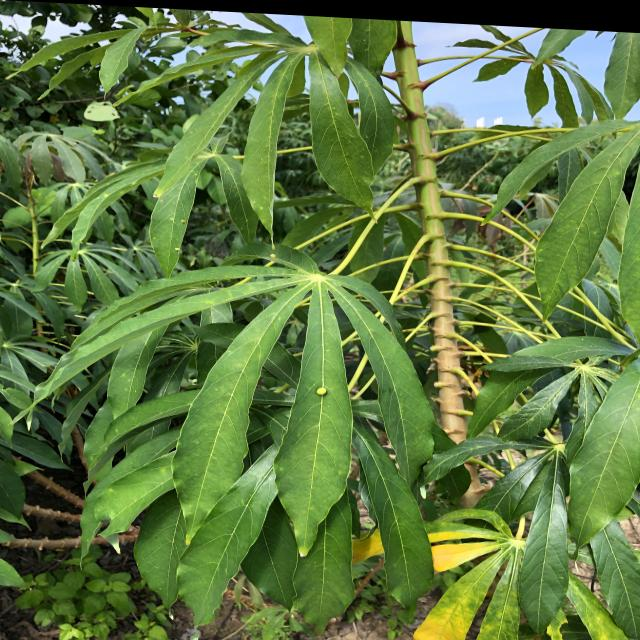Mosaico: (374, 521, 613, 635)
Mosca: (307, 378, 330, 401)
